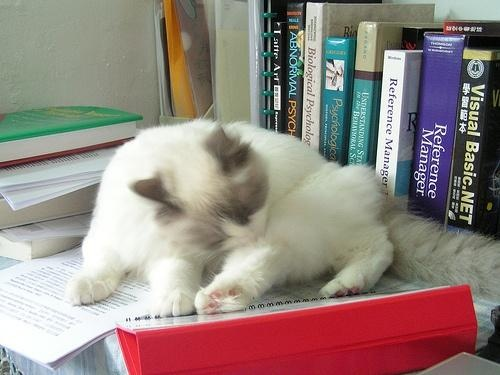cat: (78, 121, 500, 307)
